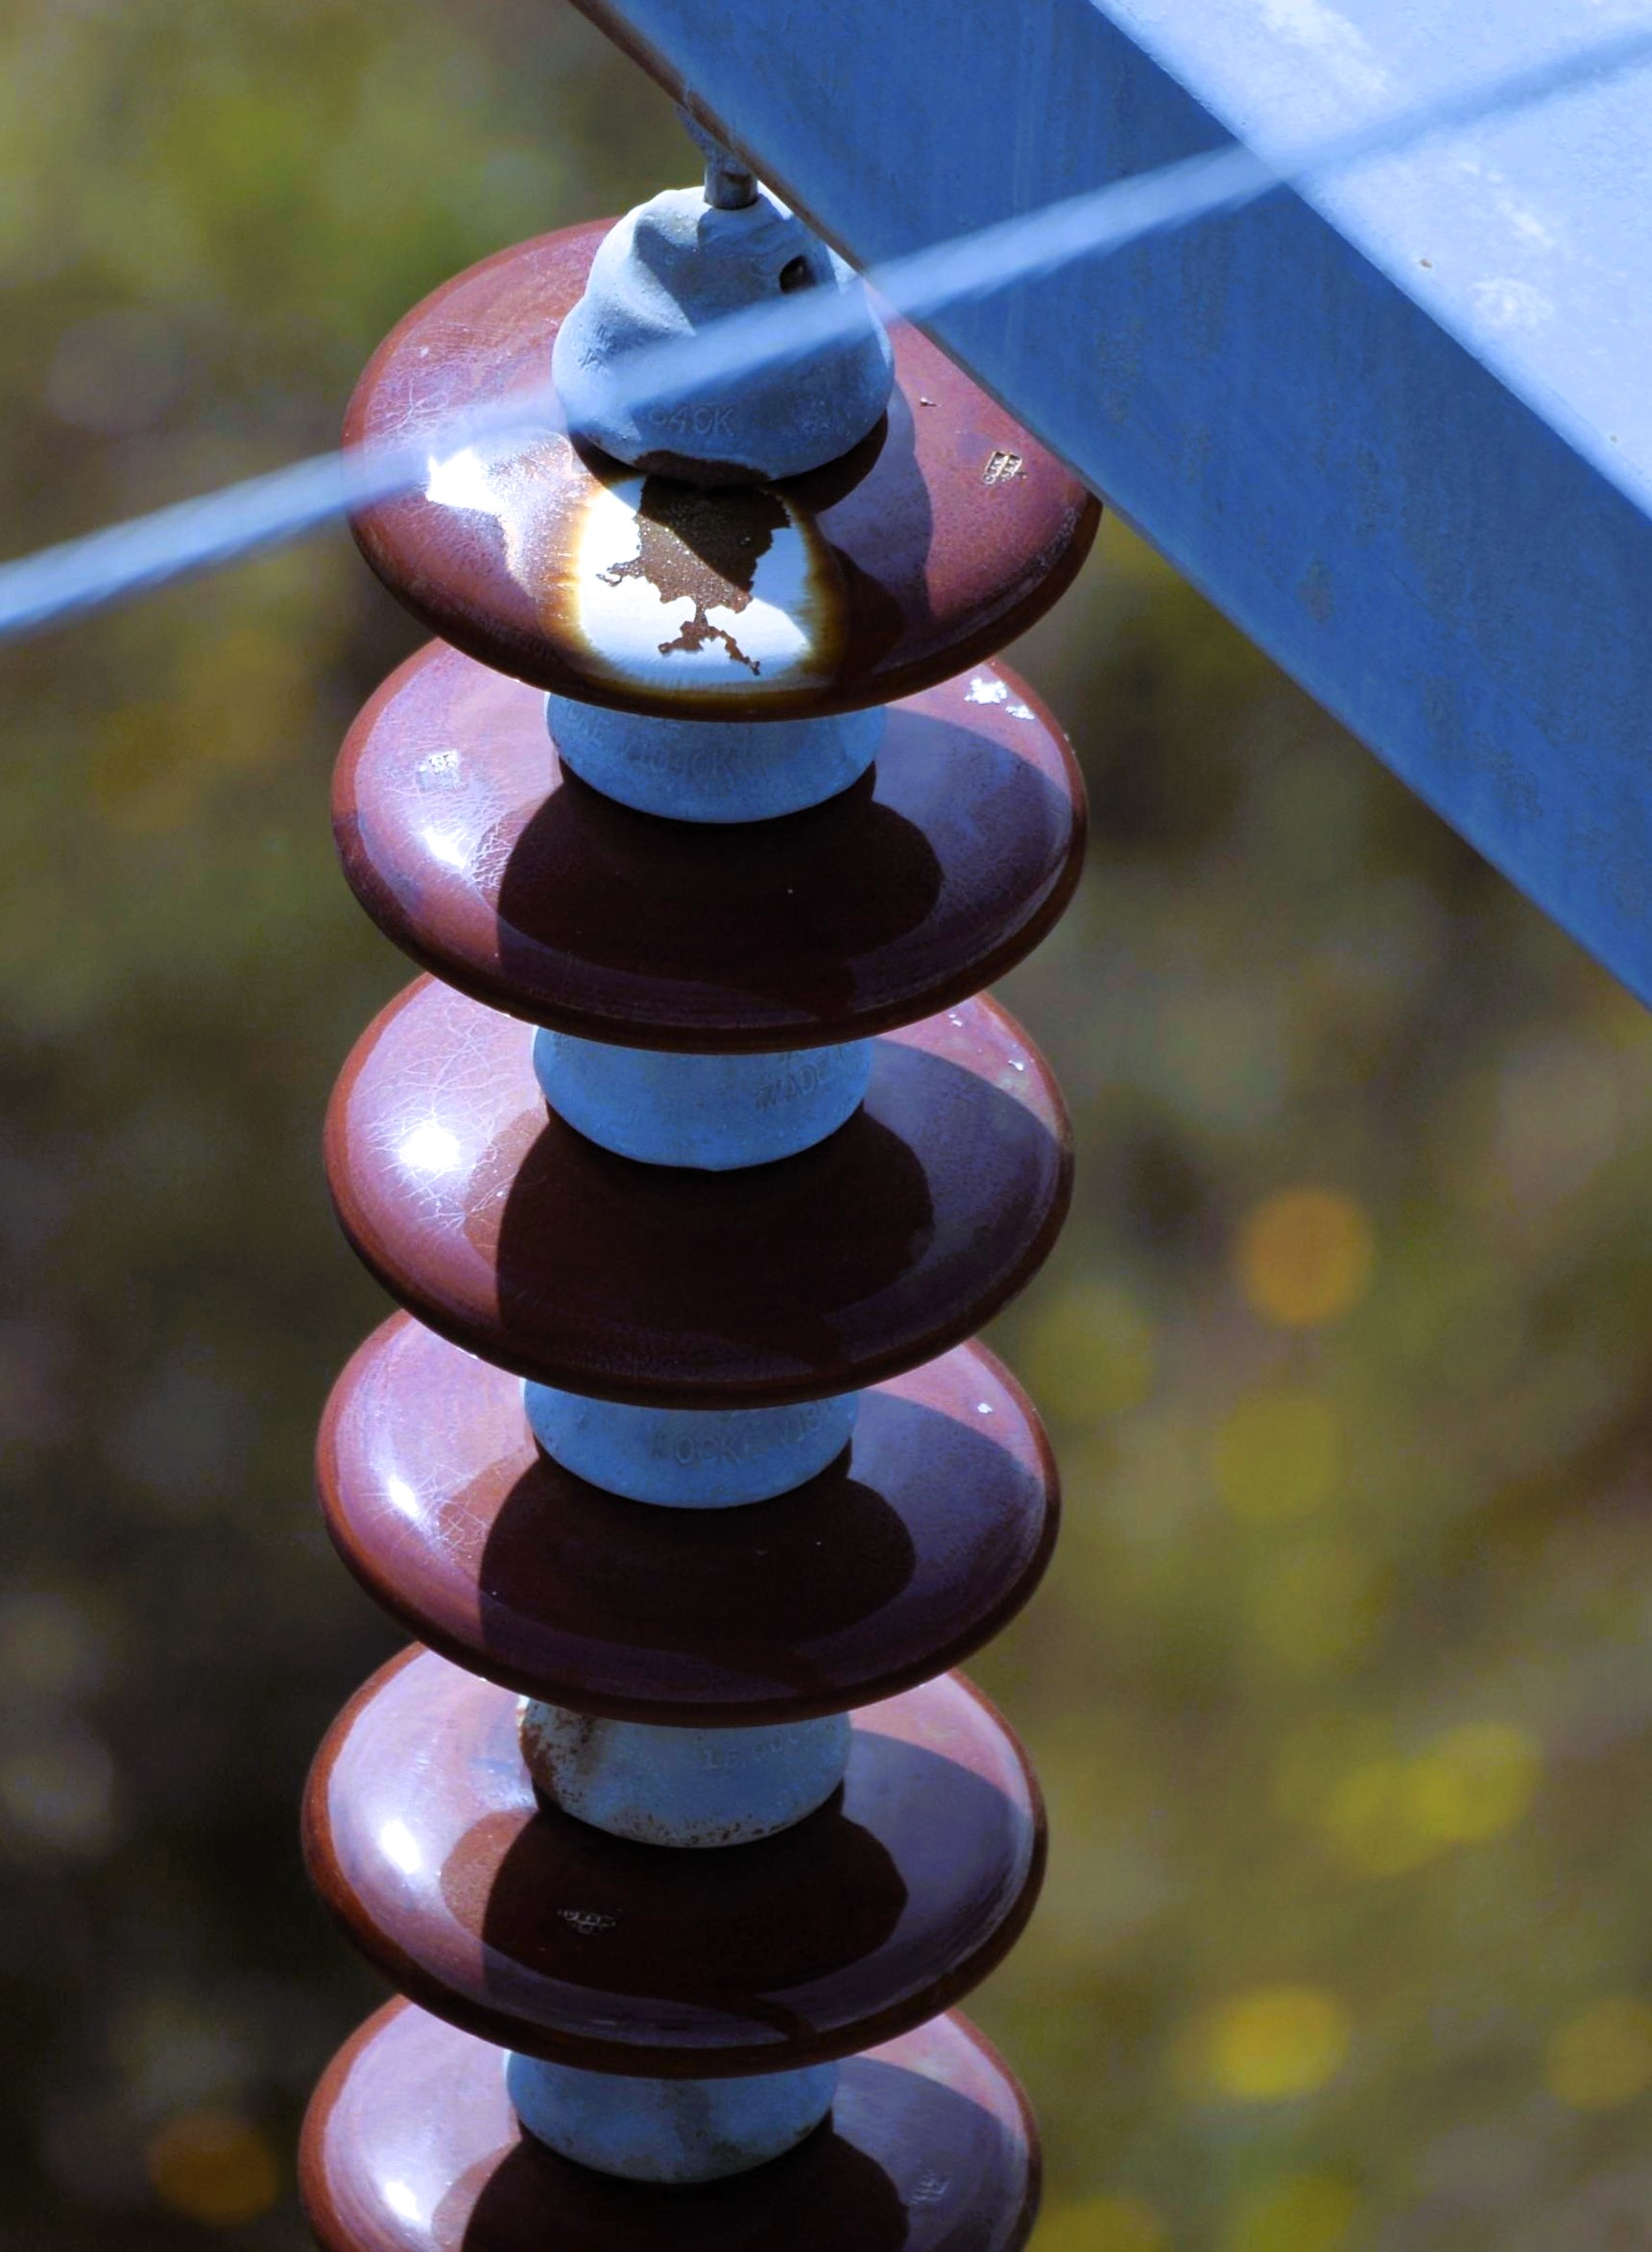Insulator flashover: (332, 180, 1138, 731)
